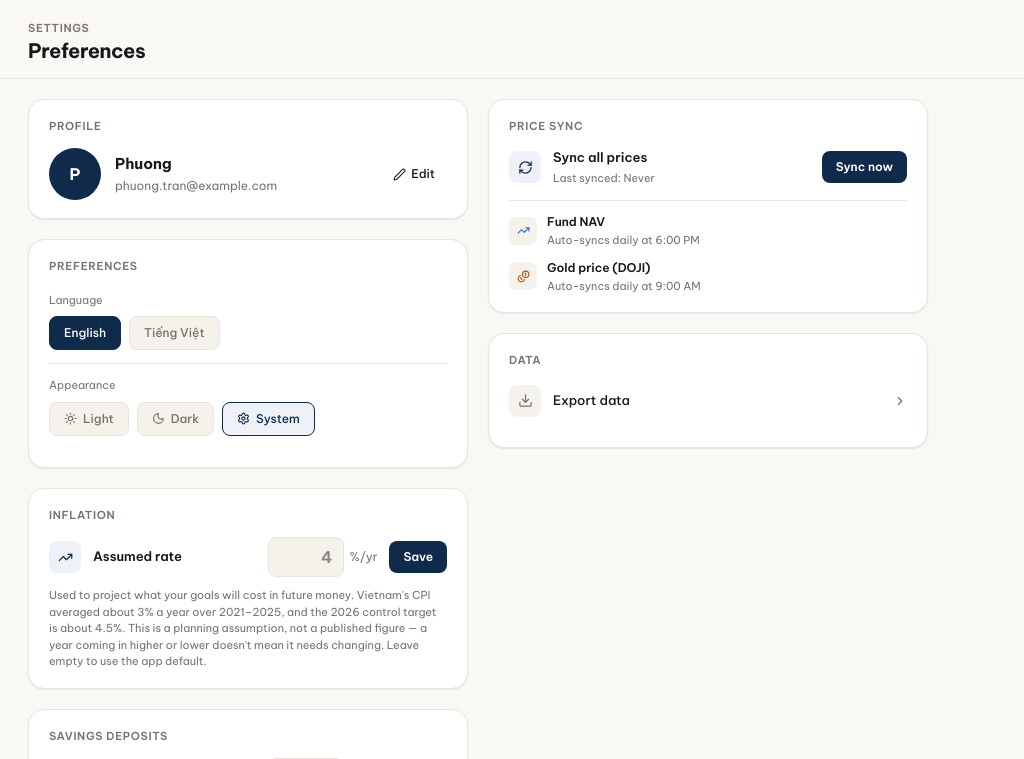
Test: DesktopSettingsView — profile modal › updates the profile card name and initials after saving
Click the button "Edit" at (414, 174), box [381,159,447,189]
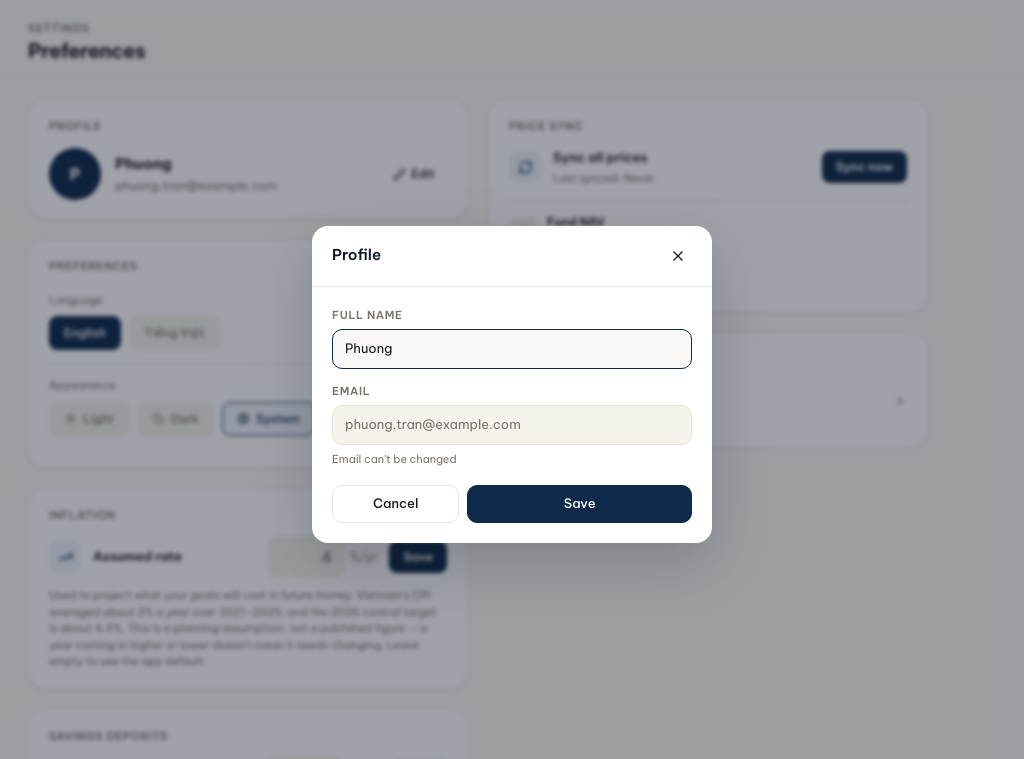
Replace the text in the field showing "Phuong" with "Minh Phuong" at (512, 349), box [332,329,692,368]
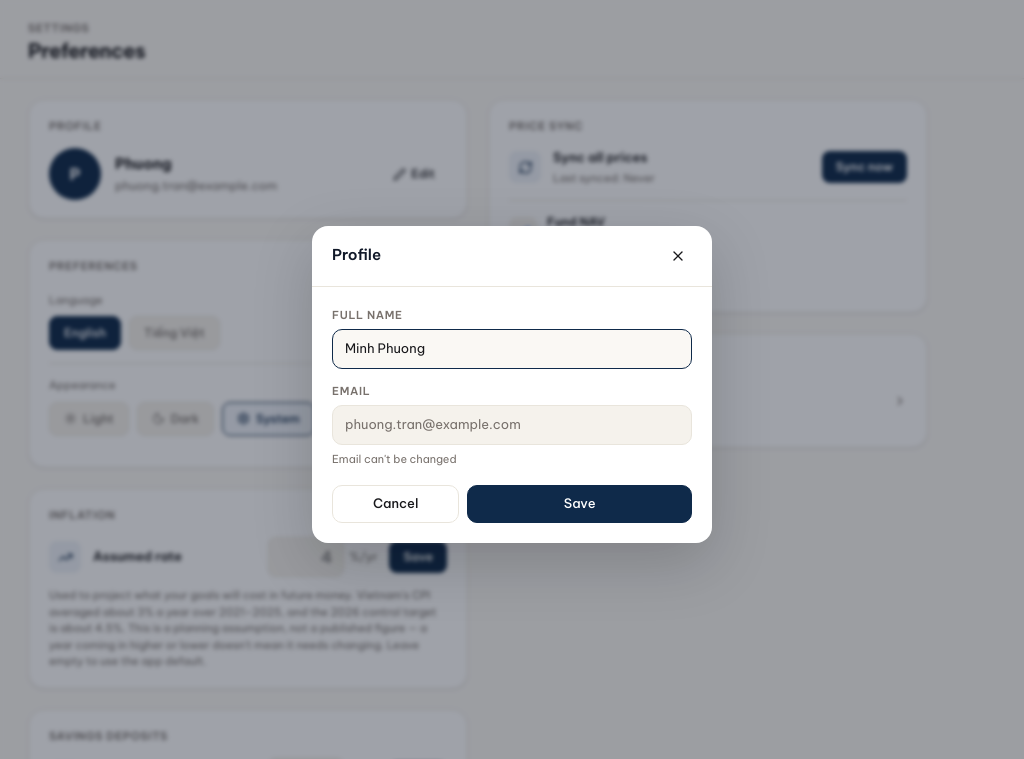
Click the button "Save" at (580, 504), box [467,485,692,522]
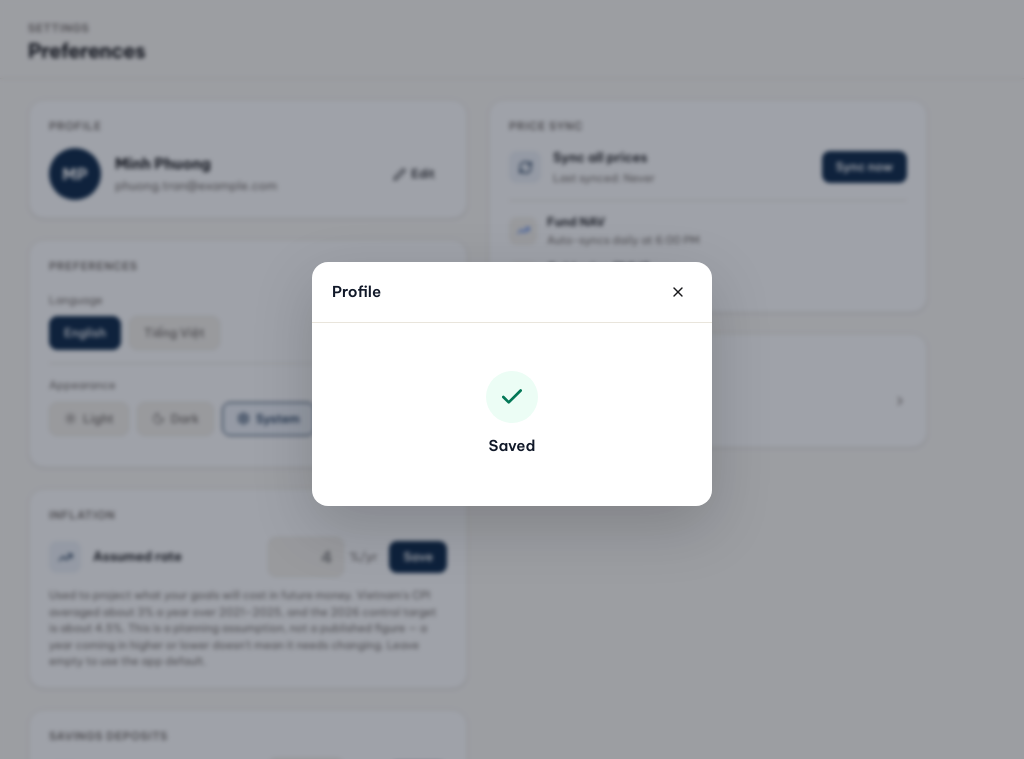
Check: the text "Minh Phuong" is shown, box [115,154,211,173]
Check: the text "MP" is shown, box [49,148,101,200]
